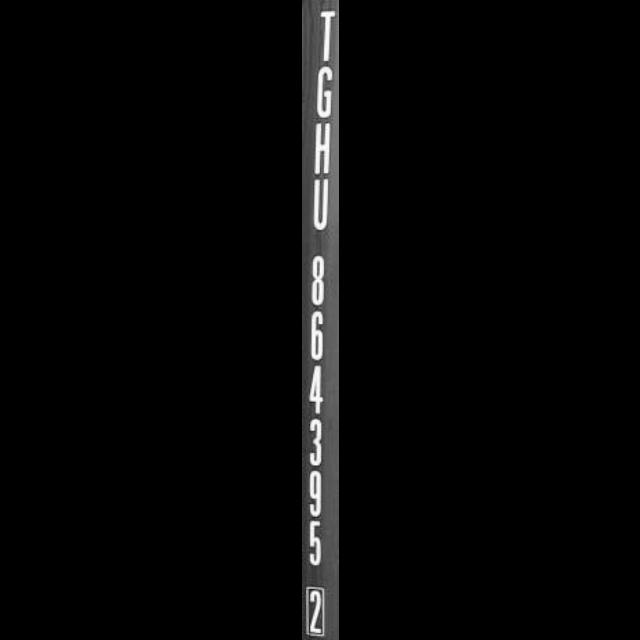2: (302, 582, 328, 640)
3: (302, 416, 338, 470)
4: (302, 360, 338, 416)
5: (302, 515, 332, 573)
6: (302, 307, 338, 365)
8: (302, 250, 338, 308)
9: (302, 468, 338, 520)
g: (312, 65, 338, 123)
h: (302, 118, 338, 176)
t: (310, 0, 338, 62)
u: (302, 172, 338, 234)
